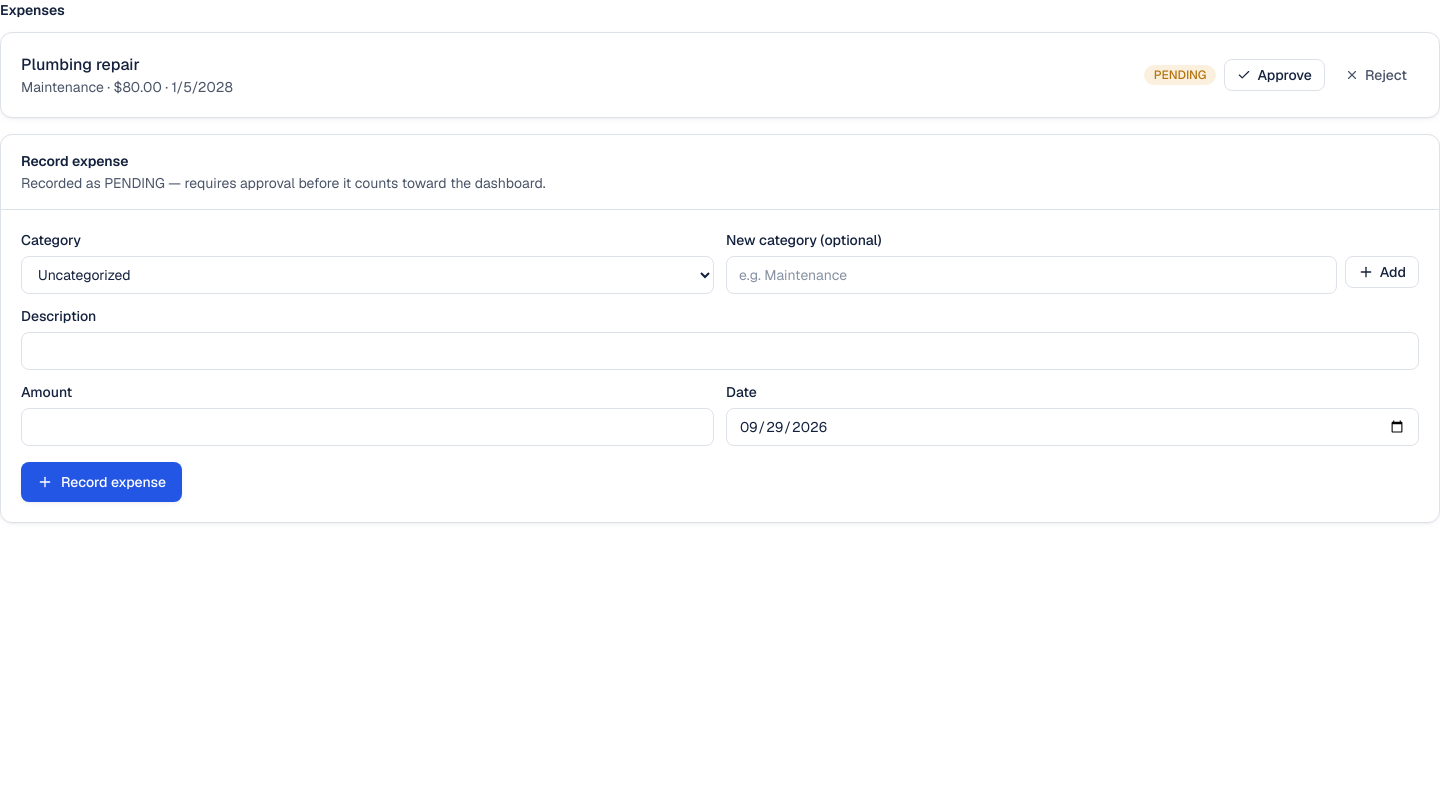
ExpensesTab — approve/reject/mark-paid (mutations) › keeps the reject dialog open and shows a danger toast when rejection fails
Click the button "Reject": click(1376, 75) left=1333, top=59, right=1419, bottom=91
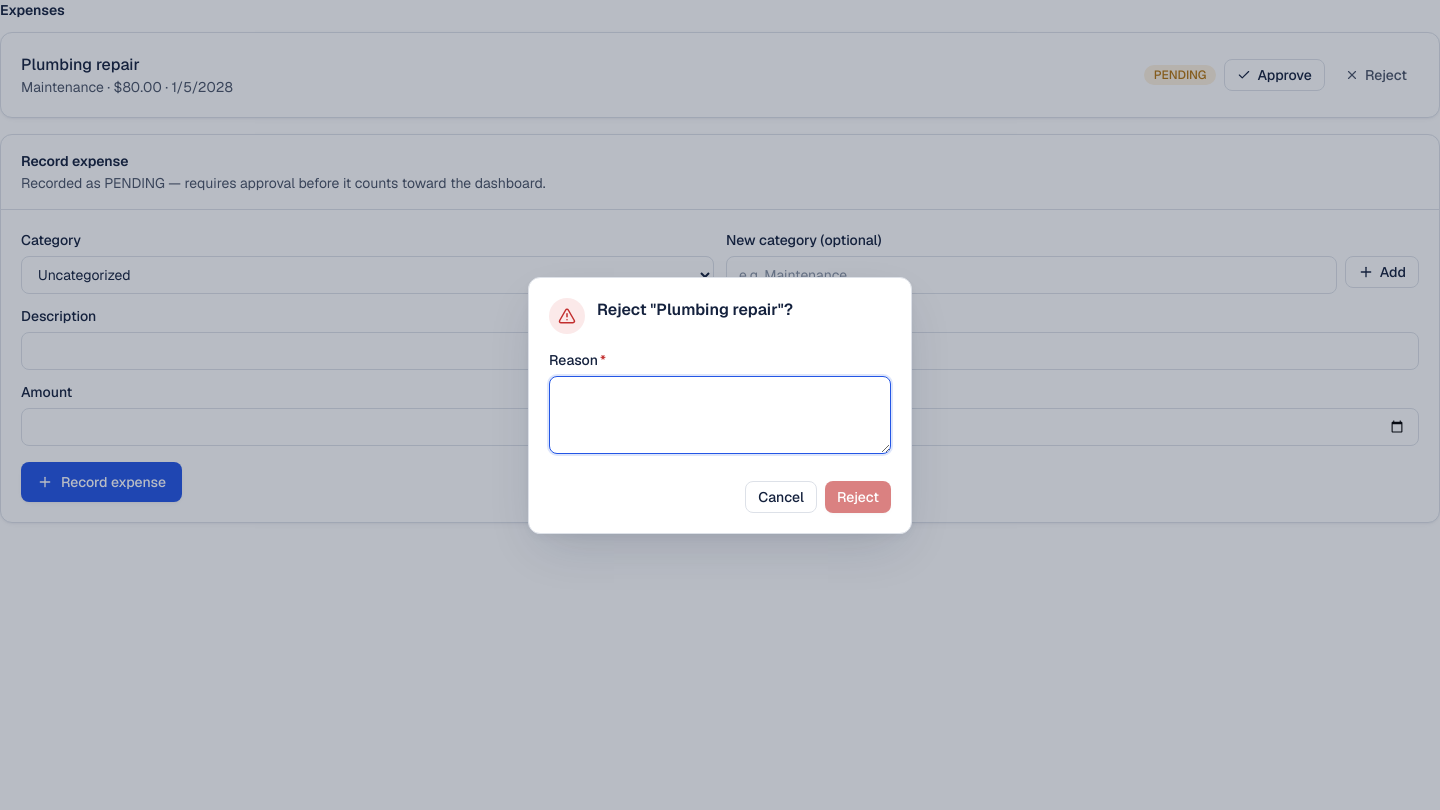
In the text box: (720, 414) left=549, top=376, right=891, bottom=454, type "Reason"
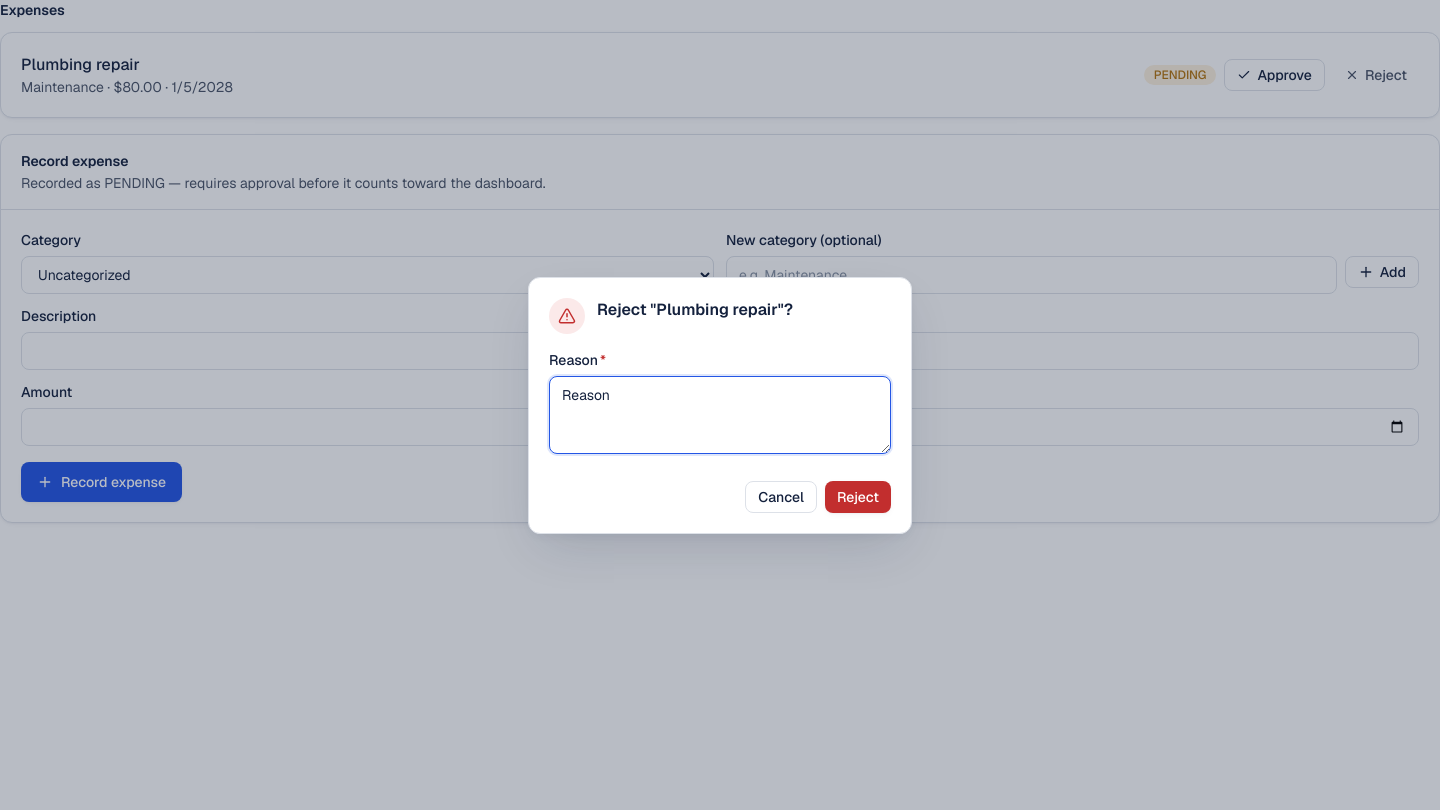
Click the button "Reject": click(858, 496) left=825, top=480, right=891, bottom=512
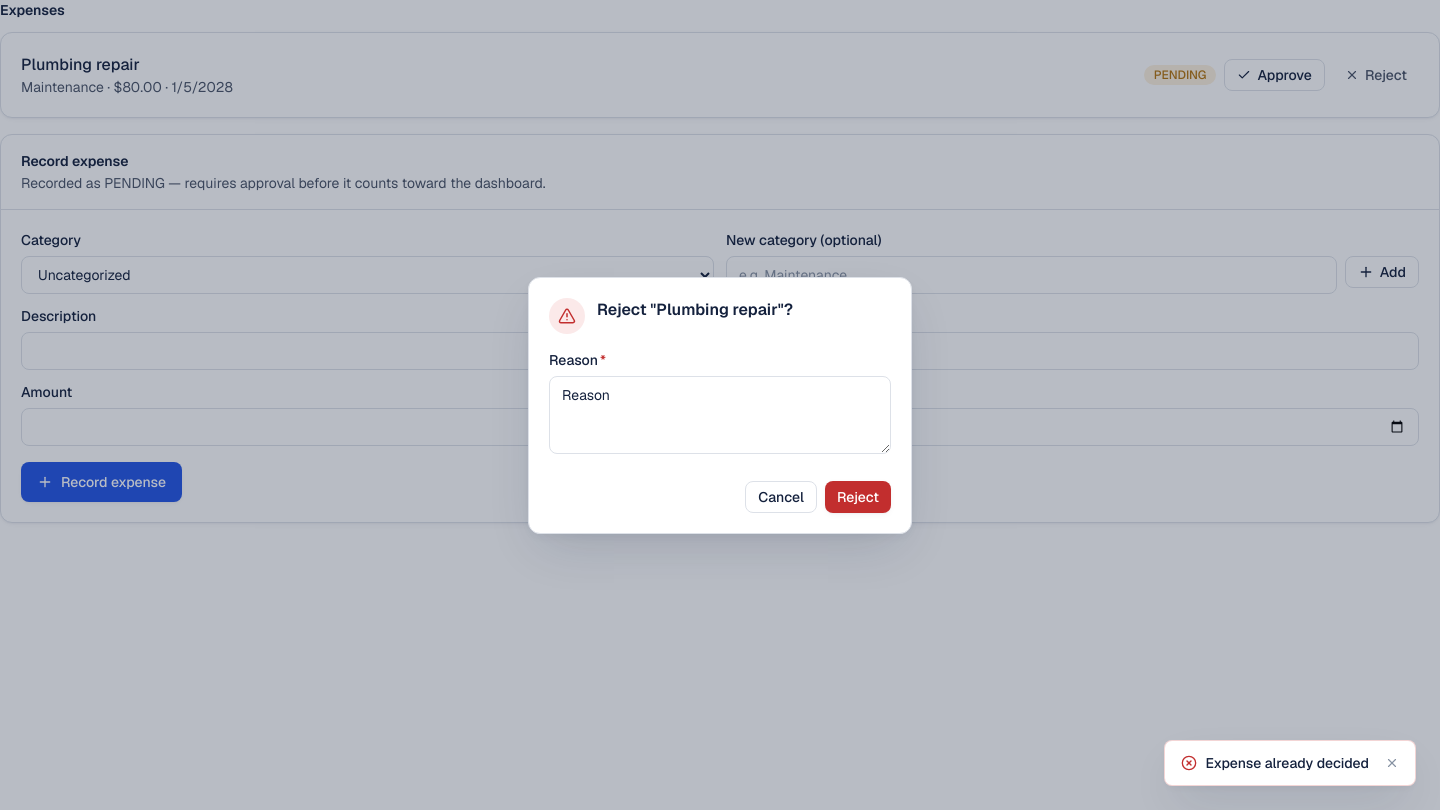
Result: the dialog is shown at left=528, top=276, right=912, bottom=534
Result: the text "Expense already decided" is shown at left=1205, top=753, right=1369, bottom=773
